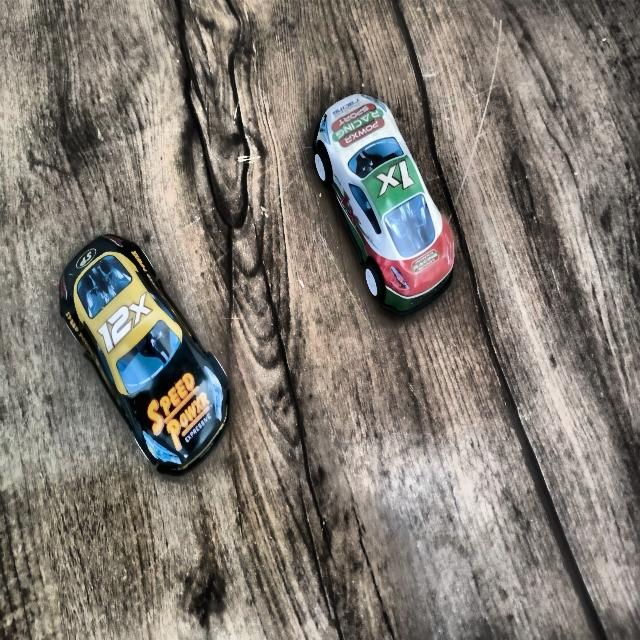Car: (57, 232, 232, 486), (310, 92, 460, 325)
